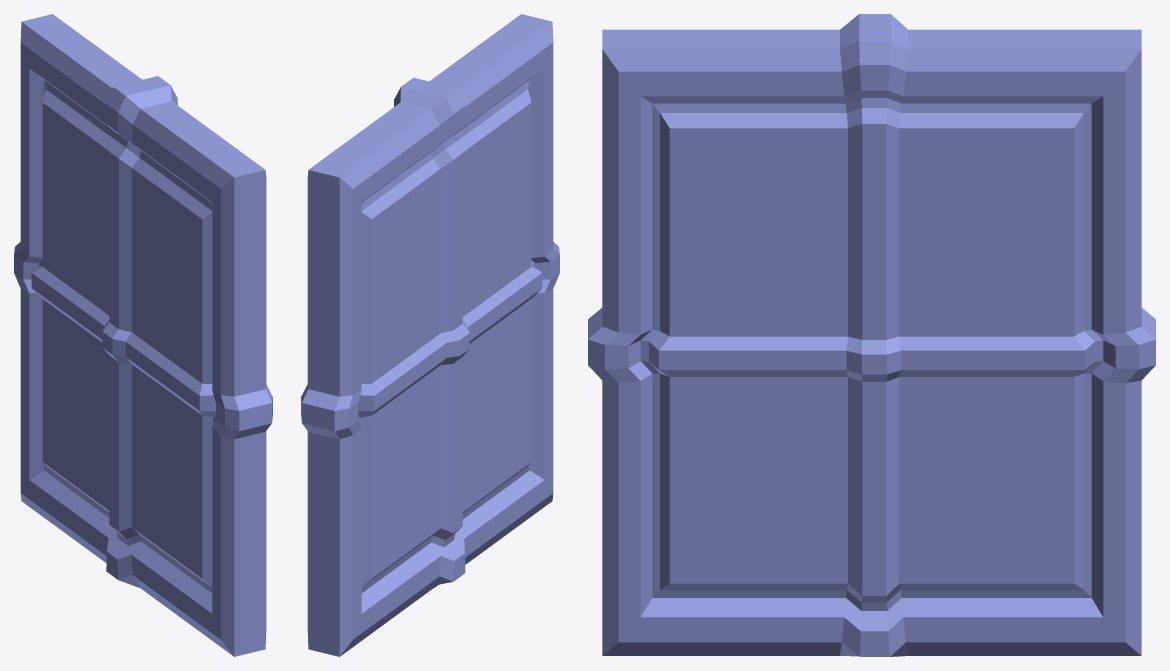
The model's file is door.fbx.
3 renders of one model, left to right at view 1: azimuth 30°, elevation 25°; view 2: azimuth 150°, elevation 25°; view 3: azimuth 270°, elevation 25°, orthographic. The views are drawn at different scales.
Parts seen in each view (by area): view 1: door2; view 2: door2; view 3: door2.
Part boxes in pixels (x1=…): door2: x1=14, y1=14, x2=272, y2=656; door2: x1=301, y1=14, x2=559, y2=656; door2: x1=588, y1=14, x2=1155, y2=656.
Bounding box in the file's own units: 25.27 × 166 × 138.
